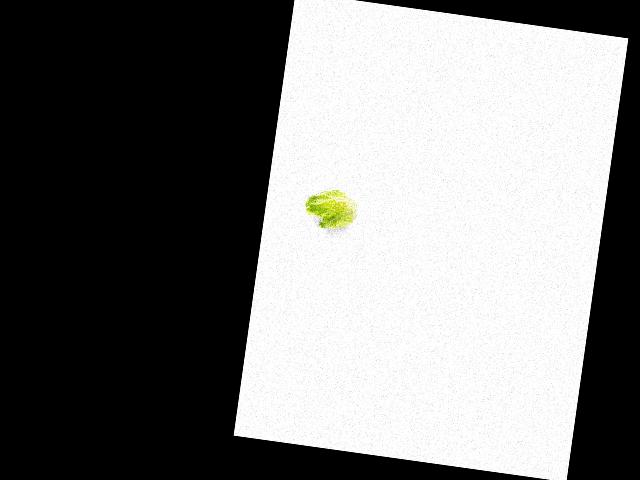lettuce: (299, 183, 365, 234)
